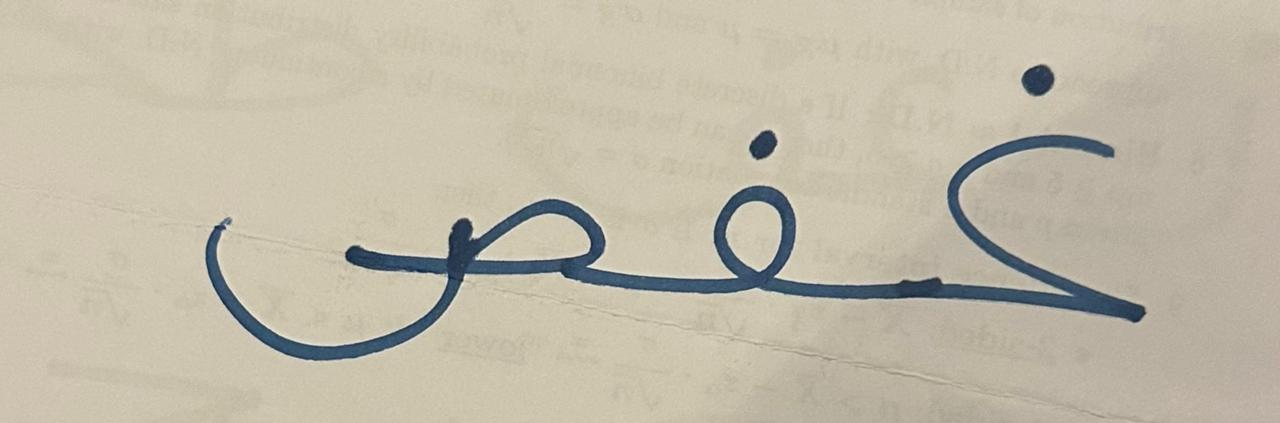feh: (631, 27, 866, 365)
ghain: (871, 17, 1190, 380)
seen: (150, 36, 627, 407)
